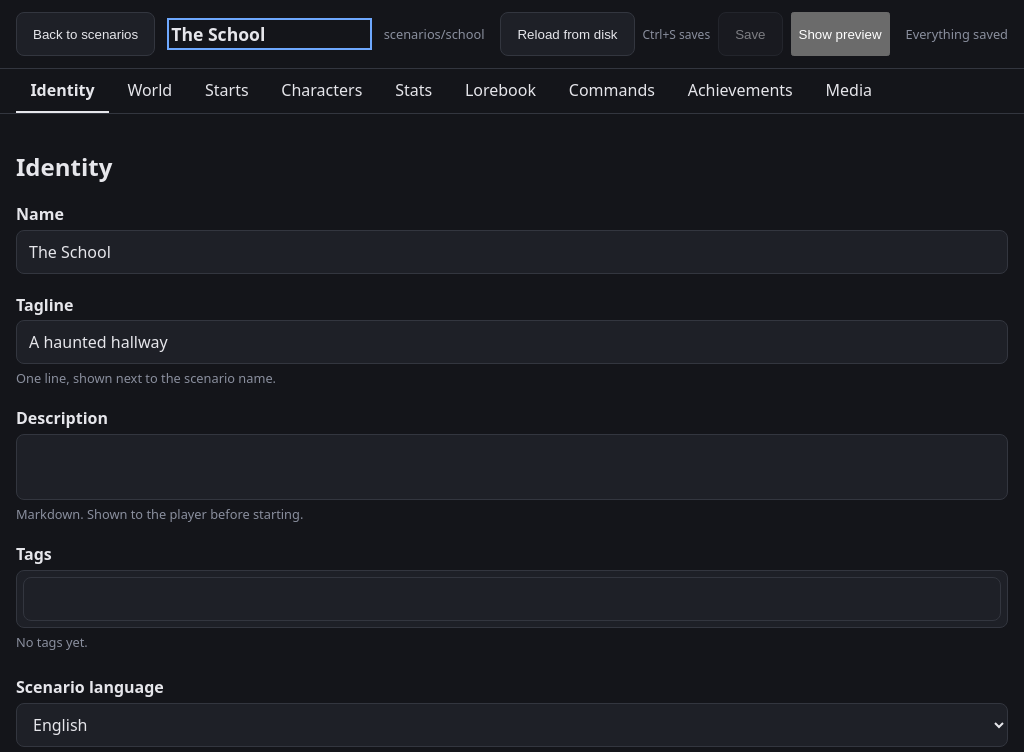
Scenario: BuilderEditorScreen › saves with Ctrl+S from anywhere in the editor
Replace the text in the field labelled "Name" with "The School Reborn" at (512, 252), box [16, 230, 1008, 274]
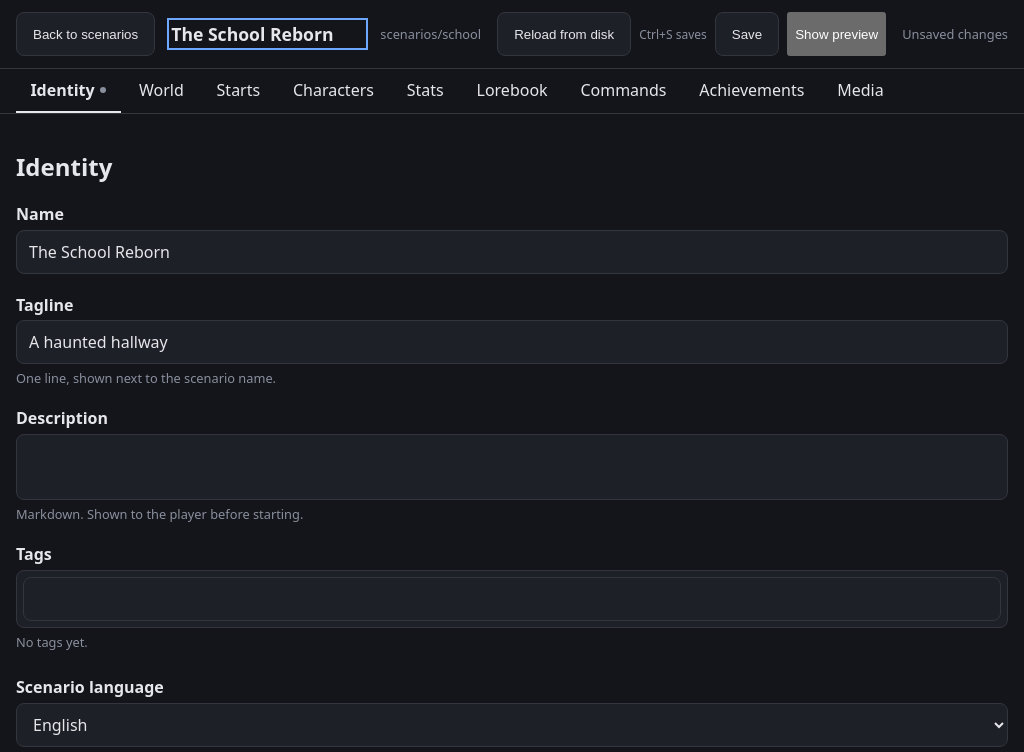
Check: the text "Unsaved changes" is shown, box [902, 25, 1008, 43]
Type keys "{Control>}s{/Control}"
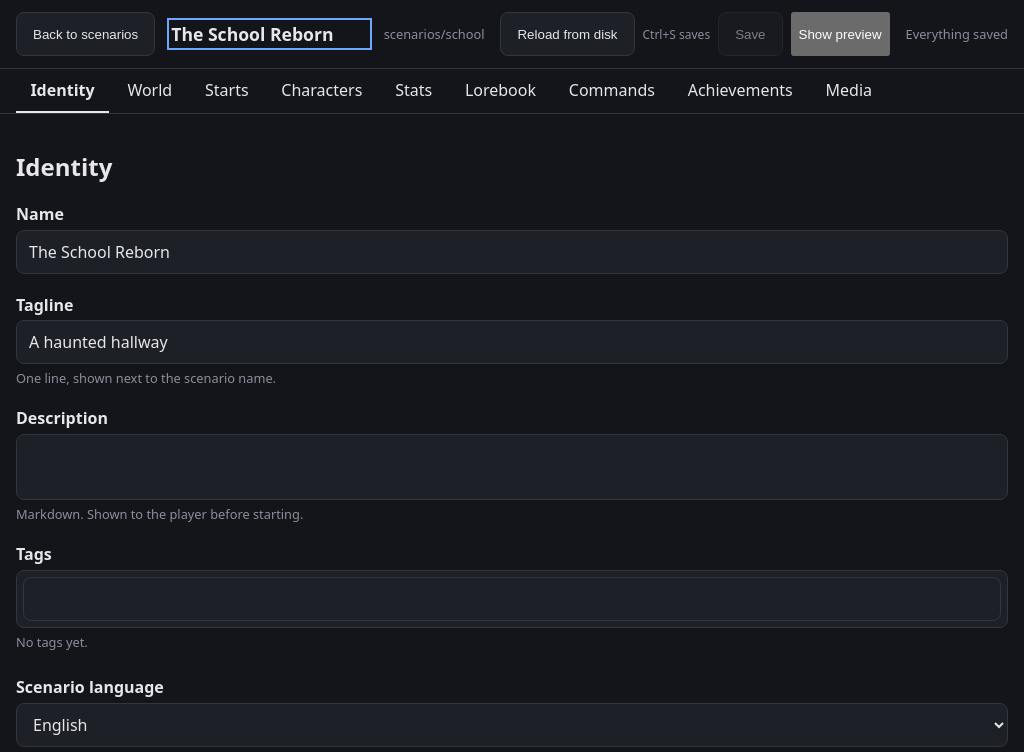
Check: the text "Everything saved" is shown, box [906, 25, 1008, 43]
